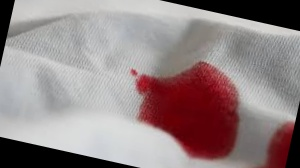blood: (124, 49, 250, 164)
